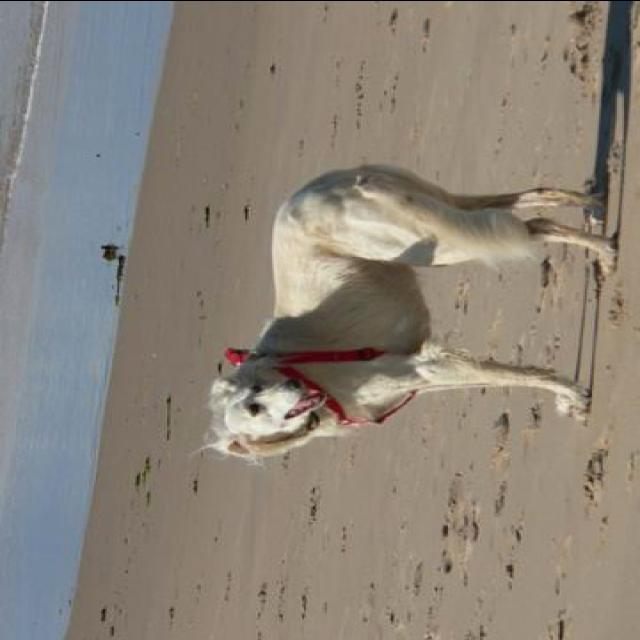saluki: (200, 158, 628, 470)
